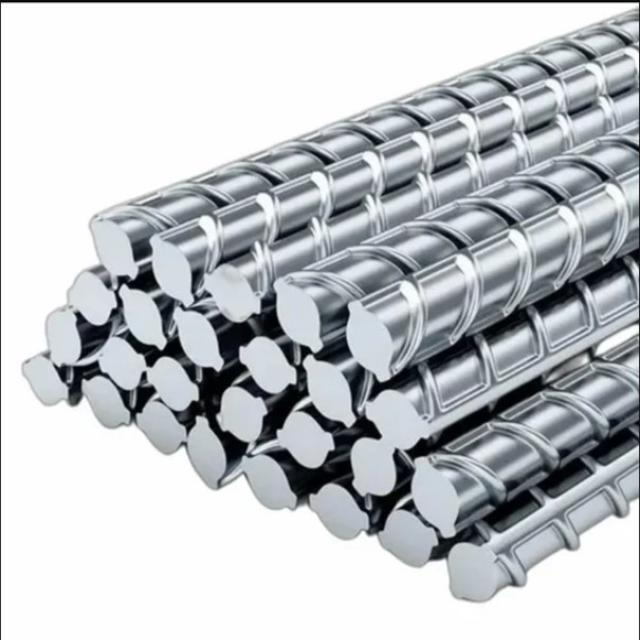Rebar: (171, 294, 237, 367), (348, 291, 405, 374), (299, 485, 376, 546), (367, 381, 433, 450), (269, 274, 327, 350), (348, 427, 405, 501), (413, 456, 466, 534), (304, 349, 356, 428), (278, 405, 342, 467), (236, 327, 297, 392), (151, 233, 202, 308), (86, 217, 145, 279), (216, 376, 272, 441), (118, 282, 173, 348), (387, 504, 440, 571), (239, 448, 293, 512), (209, 258, 261, 323), (184, 422, 233, 489), (151, 349, 200, 414), (67, 269, 118, 330), (458, 549, 507, 611), (97, 335, 148, 394), (45, 310, 87, 368), (140, 403, 187, 454), (20, 354, 66, 405)
